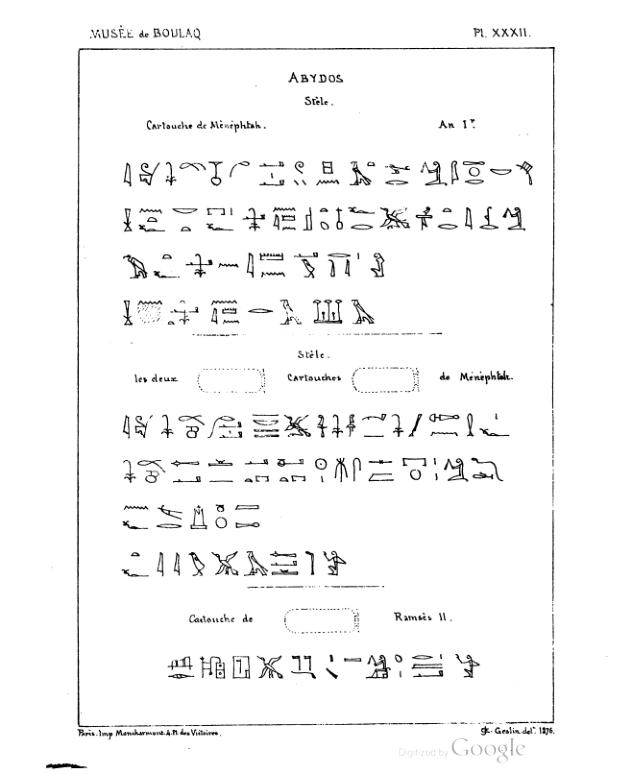circle: (279, 603, 370, 642), (188, 361, 270, 399), (342, 362, 423, 399)
